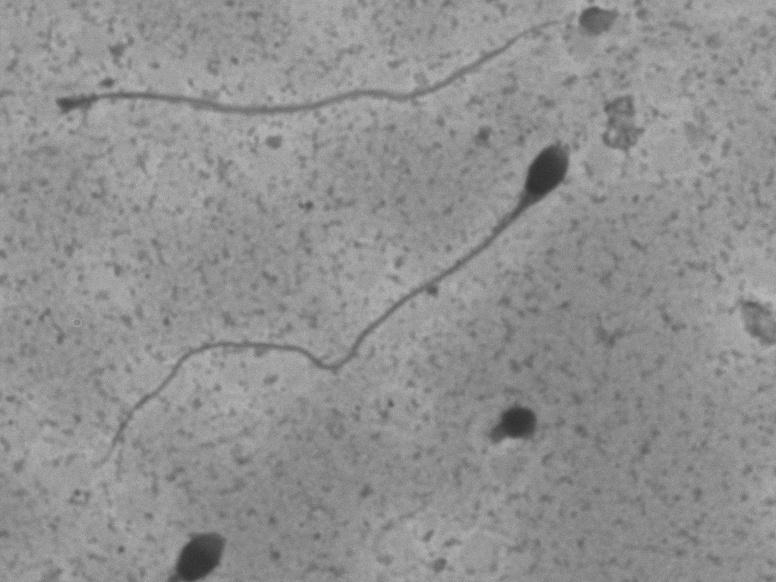Normal: (85, 128, 599, 485)
